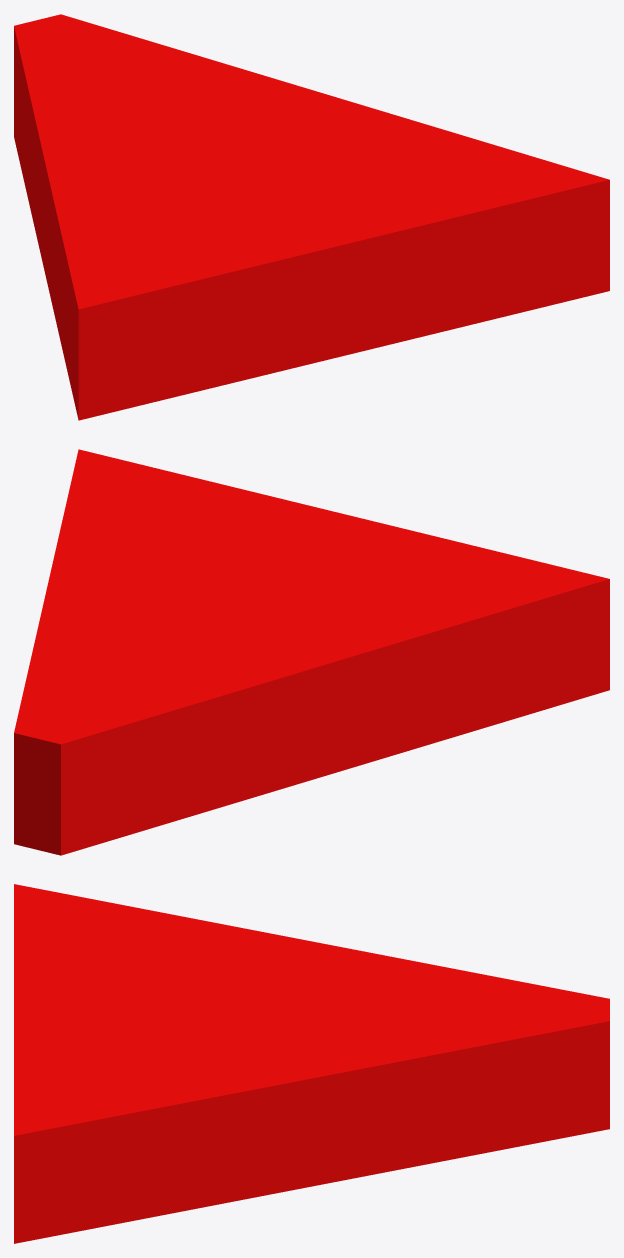
Rendered from Player.fbx.
3 views of the same model, one above another, from view 1: azimuth 30°, elevation 25°; view 2: azimuth 150°, elevation 25°; view 3: azimuth 270°, elevation 25° (orthographic). The views are drawn at different scales.
Visible parts, largest first — view 1: Cube; view 2: Cube; view 3: Cube.
Boxes of the visible parts, x1,y1,x2,y2 form: Cube: (14,14,609,420); Cube: (14,449,609,855); Cube: (14,884,609,1243).
Bounding box in the file's own units: 2 × 0.4 × 2.
